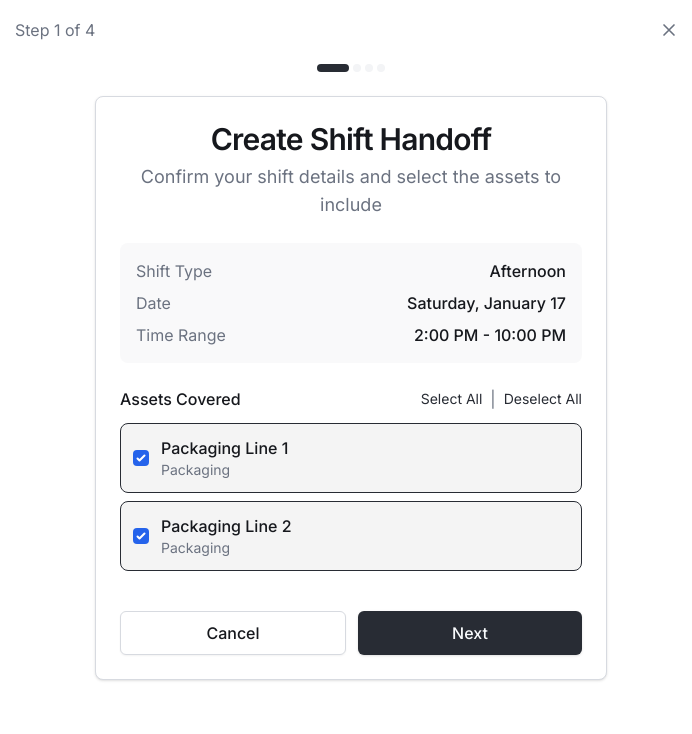
Test: HandoffCreator › allows selecting and deselecting assets
Expected: the heading "Create Shift Handoff" is shown, [211,121,491,157]
Expected: the checkbox labelled "Packaging Line 1 Packaging" is checked, [133,450,149,466]
# Click deselect all
Click the button "Deselect All": x=543, y=399 [504,387,582,411]
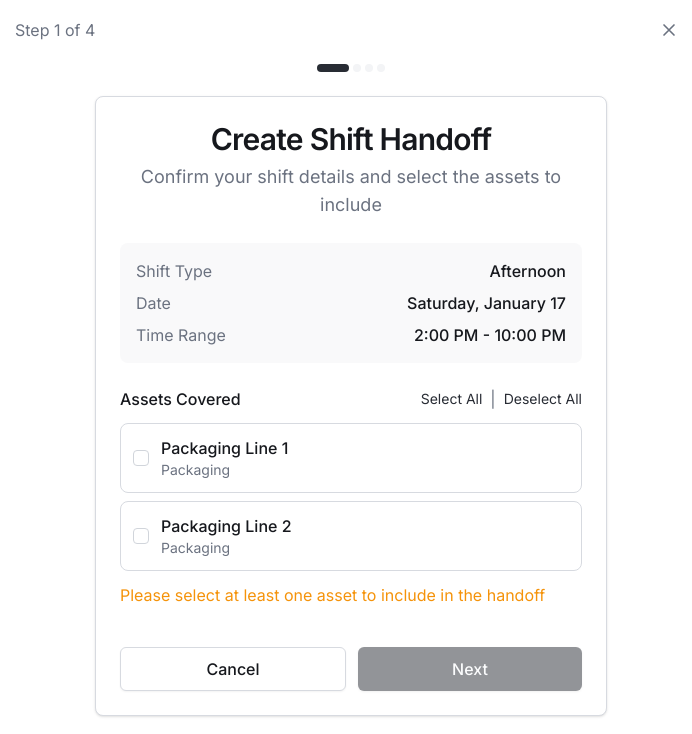
Now the checkbox labelled "Packaging Line 1 Packaging" is not checked, box [133,450,149,466]
Now the checkbox labelled "Packaging Line 2 Packaging" is not checked, box [133,528,149,544]
# Click select all
Click the button "Select All": x=452, y=399 [421,387,482,411]
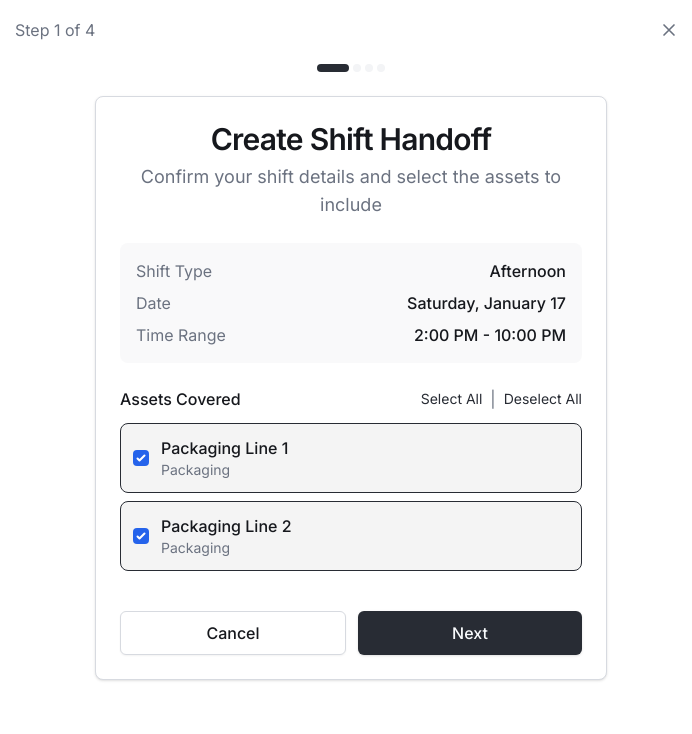
Now the checkbox labelled "Packaging Line 1 Packaging" is checked, box [133,450,149,466]
Now the checkbox labelled "Packaging Line 2 Packaging" is checked, box [133,528,149,544]
